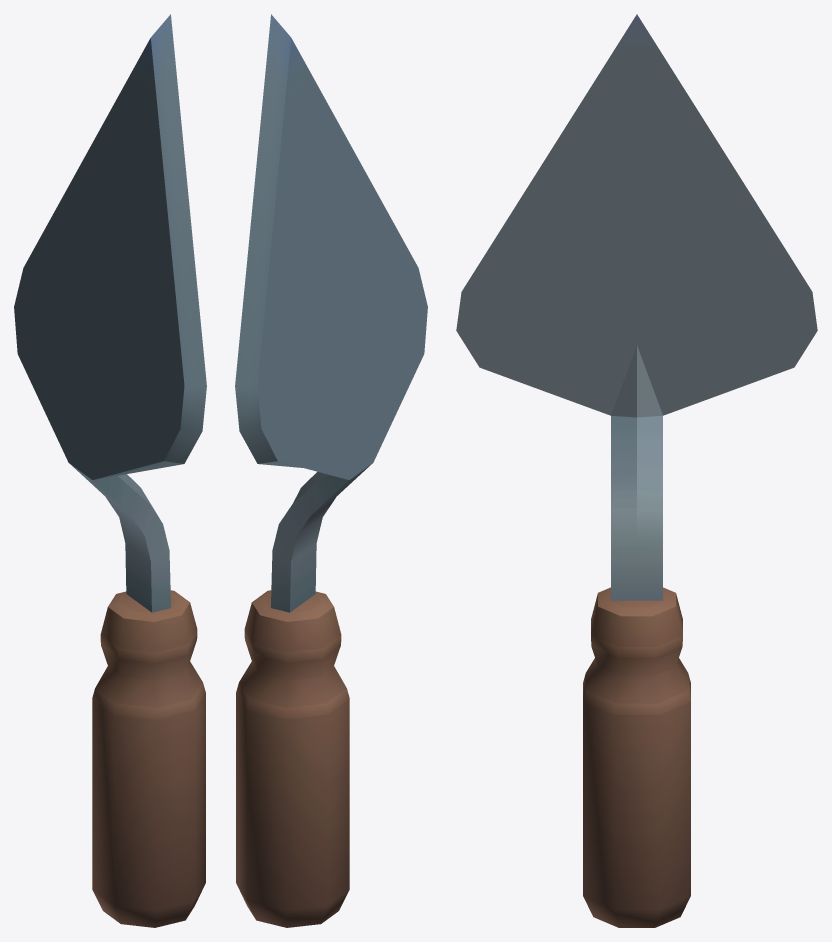
File: trowel.glb
3 views of the same model, side by side, from view 1: azimuth 30°, elevation 25°; view 2: azimuth 150°, elevation 25°; view 3: azimuth 270°, elevation 25° (orthographic).
Visible parts, largest first — view 1: trowel; view 2: trowel; view 3: trowel.
Boxes of the visible parts, x1,y1,x2,y2 form: trowel: (14,14,206,927); trowel: (235,14,427,927); trowel: (456,14,817,927).
Size of the model in its own units: 0.1887 by 1.42 by 0.5067.
1 material, 1 textured.
